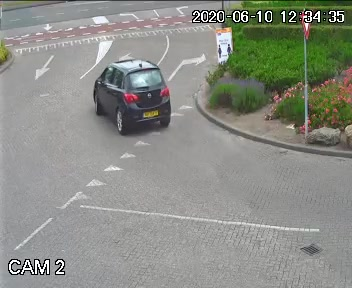car: (74, 55, 177, 134)
